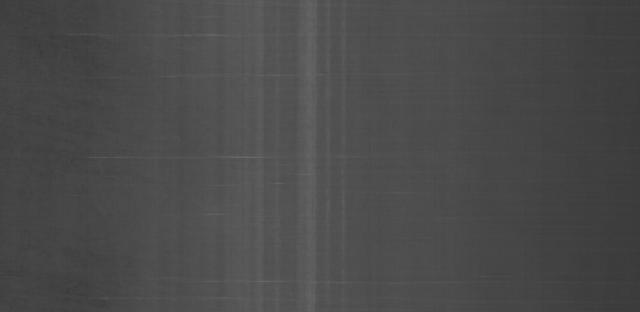waist_folding: (117, 16, 371, 302)
